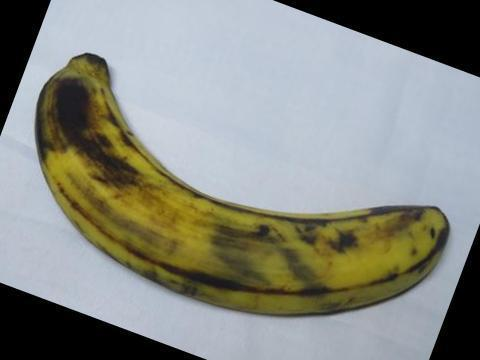overripe: (25, 43, 454, 317)
